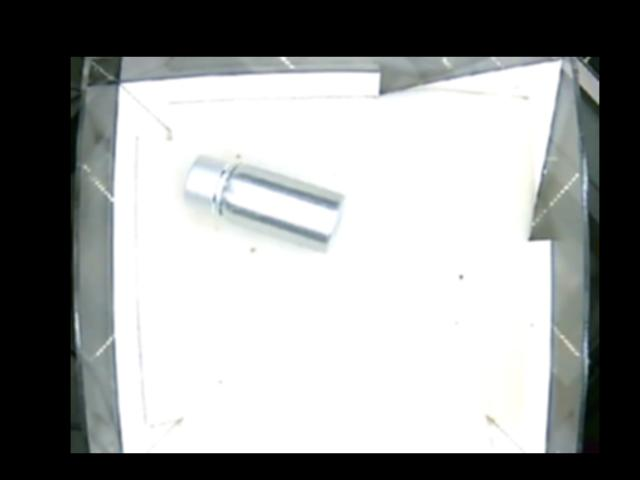Bottle: (183, 152, 344, 255)
